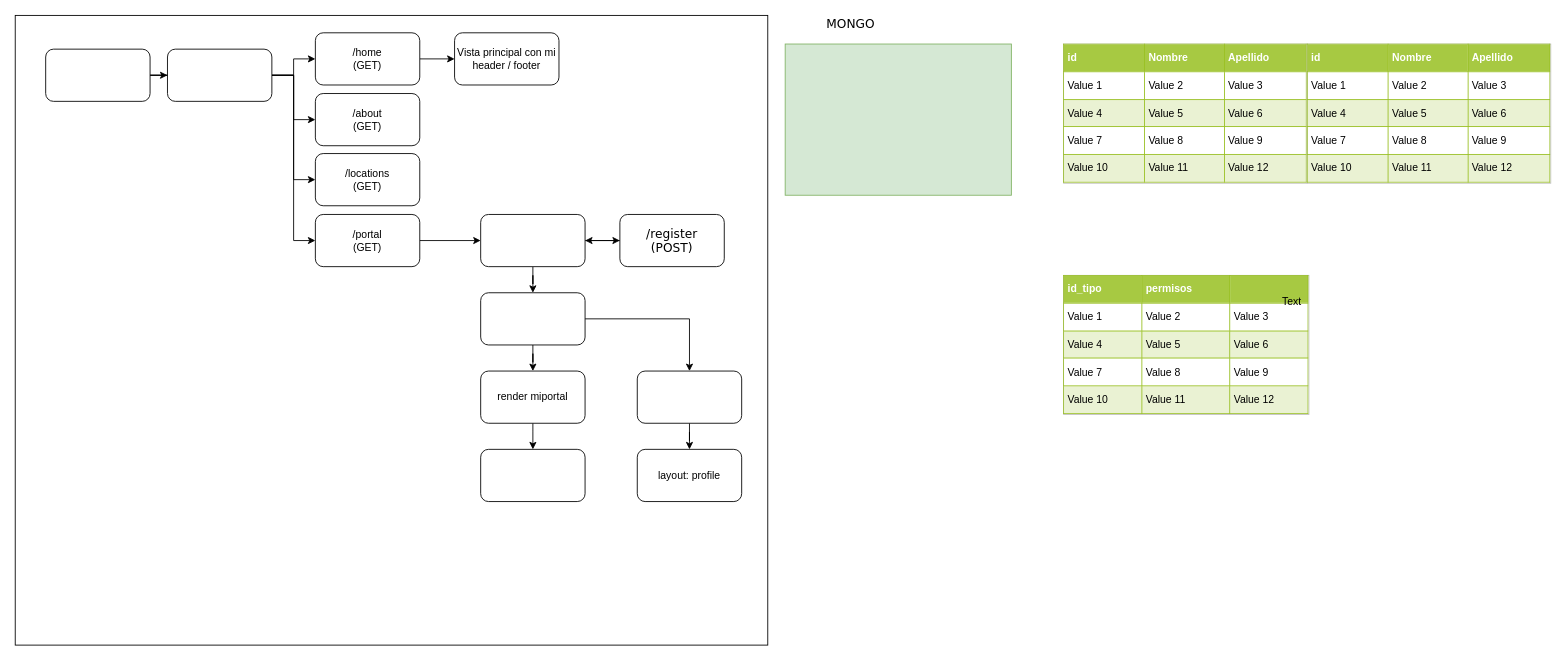
The diagram is 1566 pixels wide and 660 high, and some of its shapes have lost their labels. The centre of each missing label's shape, as x and y in pixels:
/ (GET): (x=219, y=74)
/login (POST): (x=532, y=240)
DATOS DE PACIENTES, MEDICOS, MEDICAMENTOS, DIAGNOSTICOS, TURNOS: (x=897, y=119)
Handlebars: (x=532, y=318)
layout: miportal: (x=532, y=475)
render profile: (x=689, y=396)
